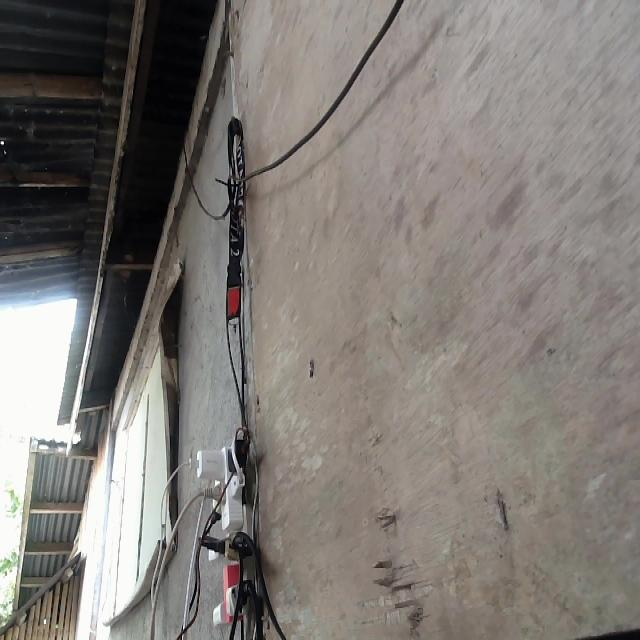-: (190, 441, 259, 627)
